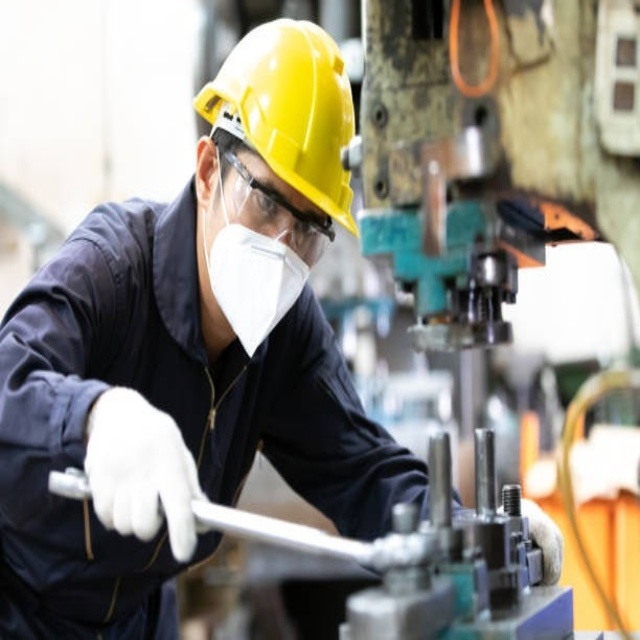Gafas: (220, 145, 338, 247)
Guantes: (82, 383, 205, 566), (514, 495, 565, 586)
Mascara: (203, 153, 319, 357)
